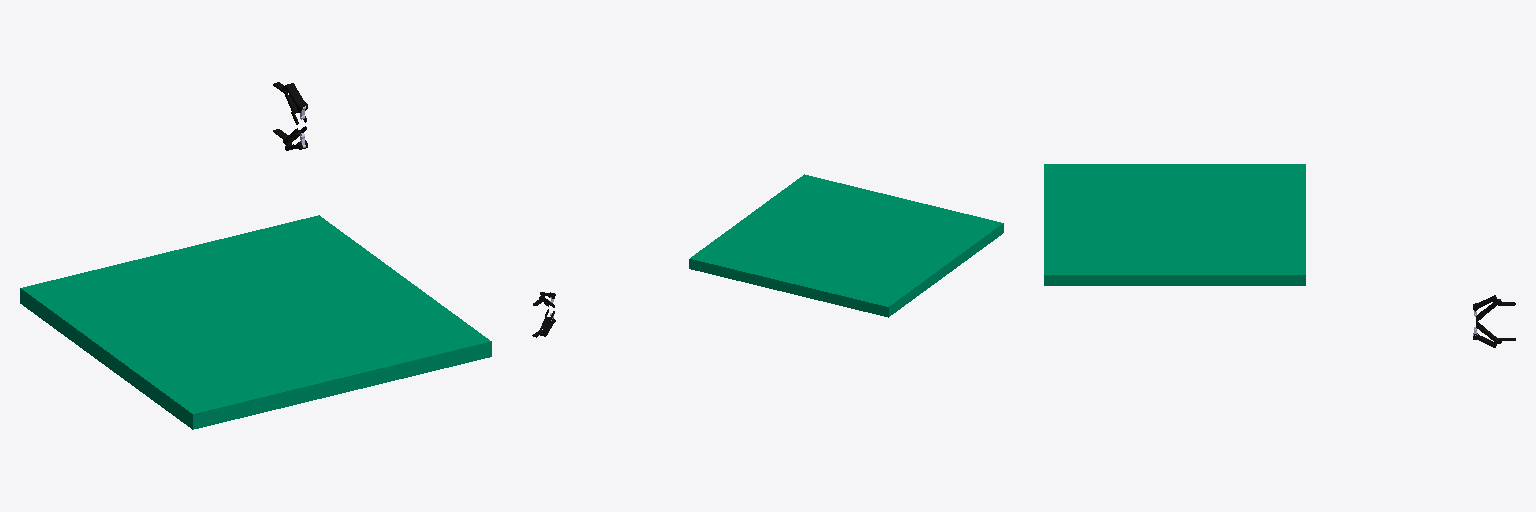
The robot description file, URDF, robot "ur5_robotiq_140":
<?xml version="1.0" ?>
<!-- =================================================================================== -->
<!-- |    This document was autogenerated by xacro from sisbot.xacro                   | -->
<!-- |    EDITING THIS FILE BY HAND IS NOT RECOMMENDED                                 | -->
<!-- =================================================================================== -->
<robot name="ur5_robotiq_140" xmlns:xacro="http://ros.org/wiki/xacro">
  <!--################################################
  ########              arm                    #######
  ####################################################-->

  <link name="base_link">
    <visual>
      <geometry>
        <mesh filename="../meshes/ur5/visual/base.obj"/>
      </geometry>
      <material name="LightGrey">
        <color rgba="0.7 0.7 0.7 1.0"/>
      </material>
    </visual>
    <collision>
      <geometry>
        <mesh filename="../meshes/ur5/collision/base.stl"/>
      </geometry>
    </collision>
    <inertial>
      <mass value="4.0"/>
      <origin rpy="0 0 0" xyz="0.0 0.0 0.0"/>
      <inertia ixx="0.00443333156" ixy="0.0" ixz="0.0" iyy="0.00443333156" iyz="0.0" izz="0.0072"/>
    </inertial>
  </link>

  <joint name="shoulder_pan_joint" type="revolute">
    <parent link="base_link"/>
    <child link="shoulder_link"/>
    <origin rpy="0.0 0.0 0.0" xyz="0.0 0.0 0.089159"/>
    <axis xyz="0 0 1"/>
    <limit effort="150.0" lower="-3.14159265359" upper="3.14159265359" velocity="3.15"/>
    <dynamics damping="0.0" friction="0.0"/>
  </joint>
  <link name="shoulder_link">
    <visual>
      <geometry>
        <mesh filename="../meshes/ur5/visual/shoulder.obj"/>
      </geometry>
      <material name="DarkGray">
        <color rgba="0.5 0.5 0.5 1.0"/>
      </material>
    </visual>
    <collision>
      <geometry>
        <mesh filename="../meshes/ur5/collision/shoulder.stl"/>
      </geometry>
    </collision>
    <inertial>
      <mass value="3.7"/>
      <origin rpy="0 0 0" xyz="0.0 0.0 0.0"/>
      <inertia ixx="0.010267495893" ixy="0.0" ixz="0.0" iyy="0.010267495893" iyz="0.0" izz="0.00666"/>
    </inertial>
  </link>
  <joint name="shoulder_lift_joint" type="revolute">
    <parent link="shoulder_link"/>
    <child link="upper_arm_link"/>
    <origin rpy="0.0 1.57079632679 0.0" xyz="0.0 0.13585 0.0"/>
    <axis xyz="0 1 0"/>
    <limit effort="150.0" lower="-3.14159265359" upper="3.14159265359" velocity="3.15"/>
    <dynamics damping="0.0" friction="0.0"/>
  </joint>
  <link name="upper_arm_link">
    <visual>
      <geometry>
        <mesh filename="../meshes/ur5/visual/upperarm.obj"/>
      </geometry>
      <material name="LightGrey">
        <color rgba="0.7 0.7 0.7 1.0"/>
      </material>
    </visual>
    <collision>
      <geometry>
        <mesh filename="../meshes/ur5/collision/upperarm.stl"/>
      </geometry>
    </collision>
    <inertial>
      <mass value="8.393"/>
      <origin rpy="0 0 0" xyz="0.0 0.0 0.28"/>
      <inertia ixx="0.22689067591" ixy="0.0" ixz="0.0" iyy="0.22689067591" iyz="0.0" izz="0.0151074"/>
    </inertial>
  </link>
  <joint name="elbow_joint" type="revolute">
    <parent link="upper_arm_link"/>
    <child link="forearm_link"/>
    <origin rpy="0.0 0.0 0.0" xyz="0.0 -0.1197 0.425"/>
    <axis xyz="0 1 0"/>
    <limit effort="150.0" lower="-3.14159265359" upper="3.14159265359" velocity="3.15"/>
    <dynamics damping="0.0" friction="0.0"/>
  </joint>
  <link name="forearm_link">
    <visual>
      <geometry>
        <mesh filename="../meshes/ur5/visual/forearm.obj"/>
      </geometry>
      <material name="LightGrey">
        <color rgba="0.7 0.7 0.7 1.0"/>
      </material>
    </visual>
    <collision>
      <geometry>
        <mesh filename="../meshes/ur5/collision/forearm.stl"/>
      </geometry>
    </collision>
    <inertial>
      <mass value="2.275"/>
      <origin rpy="0 0 0" xyz="0.0 0.0 0.25"/>
      <inertia ixx="0.049443313556" ixy="0.0" ixz="0.0" iyy="0.049443313556" iyz="0.0" izz="0.004095"/>
    </inertial>
  </link>
  <joint name="wrist_1_joint" type="revolute">
    <parent link="forearm_link"/>
    <child link="wrist_1_link"/>
    <origin rpy="0.0 1.57079632679 0.0" xyz="0.0 0.0 0.39225"/>
    <axis xyz="0 1 0"/>
    <limit effort="28.0" lower="-3.14159265359" upper="3.14159265359" velocity="3.2"/>
    <dynamics damping="0.0" friction="0.0"/>
  </joint>
  <link name="wrist_1_link">
    <visual>
      <geometry>
        <mesh filename="../meshes/ur5/visual/wrist1.obj"/>
      </geometry>
      <material name="DarkGray">
        <color rgba="0.5 0.5 0.5 1.0"/>
      </material>
    </visual>
    <collision>
      <geometry>
        <mesh filename="../meshes/ur5/collision/wrist1.stl"/>
      </geometry>
    </collision>
    <inertial>
      <mass value="1.219"/>
      <origin rpy="0 0 0" xyz="0.0 0.0 0.0"/>
      <inertia ixx="0.111172755531" ixy="0.0" ixz="0.0" iyy="0.111172755531" iyz="0.0" izz="0.21942"/>
    </inertial>
  </link>
  <joint name="wrist_2_joint" type="revolute">
    <parent link="wrist_1_link"/>
    <child link="wrist_2_link"/>
    <origin rpy="0.0 0.0 0.0" xyz="0.0 0.093 0.0"/>
    <axis xyz="0 0 1"/>
    <limit effort="28.0" lower="-3.14159265359" upper="3.14159265359" velocity="3.2"/>
    <dynamics damping="0.0" friction="0.0"/>
  </joint>
  <link name="wrist_2_link">
    <visual>
      <geometry>
        <mesh filename="../meshes/ur5/visual/wrist2.obj"/>
      </geometry>
      <material name="DarkGray">
        <color rgba="0.5 0.5 0.5 1.0"/>
      </material>
    </visual>
    <collision>
      <geometry>
        <mesh filename="../meshes/ur5/collision/wrist2.stl"/>
      </geometry>
    </collision>
    <inertial>
      <mass value="1.219"/>
      <origin rpy="0 0 0" xyz="0.0 0.0 0.0"/>
      <inertia ixx="0.111172755531" ixy="0.0" ixz="0.0" iyy="0.111172755531" iyz="0.0" izz="0.21942"/>
    </inertial>
  </link>
  <joint name="wrist_3_joint" type="revolute">
    <parent link="wrist_2_link"/>
    <child link="wrist_3_link"/>
    <origin rpy="0.0 0.0 0.0" xyz="0.0 0.0 0.09465"/>
    <axis xyz="0 1 0"/>
    <limit effort="28.0" lower="-3.14159265359" upper="3.14159265359" velocity="3.2"/>
    <dynamics damping="0.0" friction="0.0"/>
  </joint>
  <link name="wrist_3_link">
    <visual>
      <geometry>
        <mesh filename="../meshes/ur5/visual/wrist3.obj"/>
      </geometry>
      <material name="LightGrey">
        <color rgba="0.7 0.7 0.7 1.0"/>
      </material>
    </visual>
    <collision>
      <geometry>
        <mesh filename="../meshes/ur5/collision/wrist3.stl"/>
      </geometry>
    </collision>
    <inertial>
      <mass value="0.1879"/>
      <origin rpy="0 0 0" xyz="0.0 0.0 0.0"/>
      <inertia ixx="0.0171364731454" ixy="0.0" ixz="0.0" iyy="0.0171364731454" iyz="0.0" izz="0.033822"/>
    </inertial>
  </link>
  <joint name="ee_fixed_joint" type="fixed">
    <parent link="wrist_3_link"/>
    <child link="ee_link"/>
    <origin rpy="0.0 0.0 1.57079632679" xyz="0.0 0.0823 0.0"/>
  </joint>
  <link name="ee_link">
    <collision>
      <geometry>
        <box size="0.01 0.01 0.01"/>
      </geometry>
      <origin rpy="0 0 0" xyz="-0.01 0 0"/>
    </collision>
  </link>

  <!--################################################
  ########              gripper                  #####
  ####################################################-->

 <link name="robotiq_140_robotiq_arg2f_base_link">
    <inertial>
      <origin rpy="0 0 0" xyz="-0.00013 0.00011 0.03284"/>
      <mass value="0.52954"/>
      <inertia ixx="573495E-9" ixy="-554E-9" ixz="2628E-9" iyy="681780E-9" iyz="607E-9" izz="483281E-9"/>
    </inertial>
    <visual>
      <origin rpy="0 0 0" xyz="0 0 0"/>
      <geometry>
        <mesh filename="package://robotiq_140_gripper_description/meshes/GRIPPER_base_axis.dae" scale="0.001 0.001 0.001"/>
      </geometry>
      <material name="Gazebo/Black">
        <color rgba="0.1 0.1 0.1 1"/>
      </material>
    </visual>
    <collision>
      <origin rpy="0 0 0" xyz="0 0 0"/>
      <geometry>
        <mesh filename="package://robotiq_140_gripper_description/meshes/GRIPPER_base_axis.dae" scale="0.001 0.001 0.001"/>
      </geometry>
    </collision>
  </link>
  <gazebo reference="robotiq_140_robotiq_arg2f_base_link">
    <material>Gazebo/Black</material>
    <selfCollide>True</selfCollide>
  </gazebo>
  <!-- robotiq_85_left_knuckle_link -->
  <link name="robotiq_140_left_outer_knuckle">
    <inertial>
      <origin rpy="0 0 0" xyz="0.01616 0 -0.00133"/>
      <mass value="0.0131"/>
      <inertia ixx="325.5E-9" ixy="0" ixz="197.94E-9" iyy="2306.36E-9" iyz="0" izz="2176E-9"/>
    </inertial>
    <visual>
      <origin rpy="0 0 0" xyz="0 0 0"/>
      <geometry>
        <mesh filename="package://robotiq_140_gripper_description/meshes/robotiq_140_left_outer_knuckle.dae" scale="0.001 0.001 0.001"/>
      </geometry>
      <material name="">
        <color rgba="0.792156862745098 0.819607843137255 0.933333333333333 1"/>
      </material>
    </visual>
    <collision>
      <origin rpy="0 0 0" xyz="0 0 0"/>
      <geometry>
        <mesh filename="package://robotiq_140_gripper_description/meshes/robotiq_140_left_outer_knuckle.dae" scale="0.001 0.001 0.001"/>
      </geometry>
    </collision>
  </link>
  <gazebo reference="robotiq_140_left_outer_knuckle">
    <material>Gazebo/Grey</material>
    <selfCollide>True</selfCollide>
  </gazebo>
  <!-- robotiq_85_right_knuckle_link -->
  <link name="robotiq_140_right_outer_knuckle">
    <inertial>
      <origin rpy="0 0 0" xyz="-0.01616 0 -0.00133"/>
      <mass value="0.0131"/>
      <inertia ixx="325.5E-9" ixy="0" ixz="-197.94E-9" iyy="2306.36E-9" iyz="0" izz="2176E-9"/>
    </inertial>
    <visual>
      <origin rpy="0 0 0" xyz="0 0 0"/>
      <geometry>
        <mesh filename="package://robotiq_140_gripper_description/meshes/robotiq_140_right_outer_knuckle.dae" scale="0.001 0.001 0.001"/>
      </geometry>
      <material name="">
        <color rgba="0.792156862745098 0.819607843137255 0.933333333333333 1"/>
      </material>
    </visual>
    <collision>
      <origin rpy="0 0 0" xyz="0 0 0"/>
      <geometry>
        <mesh filename="package://robotiq_140_gripper_description/meshes/robotiq_140_right_outer_knuckle.dae" scale="0.001 0.001 0.001"/>
      </geometry>
    </collision>
  </link>
  <gazebo reference="robotiq_140_right_outer_knuckle">
    <material>Gazebo/Grey</material>
    <selfCollide>True</selfCollide>
  </gazebo>
  <!-- robotiq_85_left_inner_knuckle_link -->
  <link name="robotiq_140_left_inner_knuckle">
    <inertial>
      <origin rpy="0 0 0" xyz="0.03332 0 0.0379"/>
      <mass value="0.04476"/>
      <inertia ixx="28054E-9" ixy="0" ixz="-19174E-9" iyy="39758E-9" iyz="0" izz="23453E-9"/>
    </inertial>
    <visual>
      <origin rpy="0 0 0" xyz="0 0 0"/>
      <geometry>
        <mesh filename="package://robotiq_140_gripper_description/meshes/robotiq_140_left_inner_knuckle.dae" scale="0.001 0.001 0.001"/>
      </geometry>
      <material name="Gazebo/Black">
        <color rgba="0.1 0.1 0.1 1"/>
      </material>
    </visual>
    <collision>
      <origin rpy="0 0 0" xyz="0 0 0"/>
      <geometry>
        <mesh filename="package://robotiq_140_gripper_description/meshes/robotiq_140_left_inner_knuckle.dae" scale="0.001 0.001 0.001"/>
      </geometry>
    </collision>
  </link>
  <gazebo reference="robotiq_140_left_inner_knuckle">
    <material>Gazebo/Black</material>
    <selfCollide>False</selfCollide>
  </gazebo>
  <!-- robotiq_85_right_inner_knuckle_link -->
  <link name="robotiq_140_right_inner_knuckle">
    <inertial>
      <origin rpy="0 0 0" xyz="-0.03332 0 0.0379"/>
      <mass value="0.04476"/>
      <inertia ixx="28054E-9" ixy="0" ixz="19174E-9" iyy="39758E-9" iyz="0" izz="23453E-9"/>
    </inertial>
    <visual>
      <origin rpy="0 0 0" xyz="0 0 0"/>
      <geometry>
        <mesh filename="package://robotiq_140_gripper_description/meshes/robotiq_140_right_inner_knuckle.dae" scale="0.001 0.001 0.001"/>
      </geometry>
      <material name="Gazebo/Black">
        <color rgba="0.1 0.1 0.1 1"/>
      </material>
    </visual>
    <collision>
      <origin rpy="0 0 0" xyz="0 0 0"/>
      <geometry>
        <mesh filename="package://robotiq_140_gripper_description/meshes/robotiq_140_right_inner_knuckle.dae" scale="0.001 0.001 0.001"/>
      </geometry>
    </collision>
  </link>
  <gazebo reference="robotiq_140_right_inner_knuckle">
    <material>Gazebo/Black</material>
    <selfCollide>False</selfCollide>
  </gazebo>
  <!-- robotiq_85_left_finger_link -->
  <link name="robotiq_140_left_inner_finger">
    <inertial>
      <origin rpy="0 0 0" xyz="-0.01563 0 0.02522"/>
      <mass value="0.045"/>
      <inertia ixx="26663E-9" ixy="0" ixz="5579E-9" iyy="28009E-9" iyz="0" izz="4368E-9"/>
    </inertial>
    <visual>
      <origin rpy="0 0 0" xyz="0 0 0"/>
      <geometry>
        <mesh filename="package://robotiq_140_gripper_description/meshes/robotiq_140_left_inner_finger.dae" scale="0.001 0.001 0.001"/>
      </geometry>
      <material name="Gazebo/Black">
        <color rgba="0.1 0.1 0.1 1"/>
      </material>
    </visual>
    <collision>
      <origin rpy="0 0 0" xyz="0 0 0"/>
      <geometry>
        <mesh filename="package://robotiq_140_gripper_description/meshes/robotiq_140_left_inner_finger.dae" scale="0.001 0.001 0.001"/>
      </geometry>
    </collision>
  </link>
  <gazebo reference="robotiq_140_left_inner_finger">
    <material>Gazebo/Black</material>
    <selfCollide>False</selfCollide>
  </gazebo>
  <!-- robotiq_85_right_finger_link -->
  <link name="robotiq_140_right_inner_finger">
    <inertial>
      <origin rpy="0 0 0" xyz="0.01563 0 0.02522"/>
      <mass value="0.045"/>
      <inertia ixx="26663E-9" ixy="0" ixz="-5579E-9" iyy="28009E-9" iyz="0" izz="4368E-9"/>
    </inertial>
    <visual>
      <origin rpy="0 0 0" xyz="0 0 0"/>
      <geometry>
        <mesh filename="package://robotiq_140_gripper_description/meshes/robotiq_140_right_inner_finger.dae" scale="0.001 0.001 0.001"/>
      </geometry>
      <material name="Gazebo/Black">
        <color rgba="0.1 0.1 0.1 1"/>
      </material>
    </visual>
    <collision>
      <origin rpy="0 0 0" xyz="0 0 0"/>
      <geometry>
        <mesh filename="package://robotiq_140_gripper_description/meshes/robotiq_140_right_inner_finger.dae" scale="0.001 0.001 0.001"/>
      </geometry>
    </collision>
  </link>
  <gazebo reference="robotiq_140_right_inner_finger">
    <material>Gazebo/Black</material>
    <selfCollide>False</selfCollide>
  </gazebo>
  <!-- robot -->
  <link name="robotiq_140_left_outer_finger">
    <inertial>
      <origin rpy="0 0 0" xyz="0.01482 0 0.03451"/>
      <mass value="0.07637"/>
      <inertia ixx="45513E-9" ixy="0" ixz="-20691E-9" iyy="52570E-9" iyz="0" izz="17804E-9"/>
    </inertial>
    <visual>
      <origin rpy="0 0 0" xyz="0 0 0"/>
      <geometry>
        <mesh filename="package://robotiq_140_gripper_description/meshes/robotiq_140_left_outer_finger.dae" scale="0.001 0.001 0.001"/>
      </geometry>
      <material name="Gazebo/Black">
        <color rgba="0.1 0.1 0.1 1"/>
      </material>
    </visual>
    <collision>
      <origin rpy="0 0 0" xyz="0 0 0"/>
      <geometry>
        <mesh filename="package://robotiq_140_gripper_description/meshes/robotiq_140_left_outer_finger.dae" scale="0.001 0.001 0.001"/>
      </geometry>
    </collision>
  </link>
  <gazebo reference="robotiq_140_left_outer_finger">
    <material>Gazebo/Black</material>
    <selfCollide>True</selfCollide>
  </gazebo>
  <!-- robot -->
  <link name="robotiq_140_right_outer_finger">
    <inertial>
      <origin rpy="0 0 0" xyz="-0.01482 0 0.03451"/>
      <mass value="0.07637"/>
      <inertia ixx="45513E-9" ixy="0" ixz="20691E-9" iyy="52570E-9" iyz="0" izz="17804E-9"/>
    </inertial>
    <visual>
      <origin rpy="0 0 0" xyz="0 0 0"/>
      <geometry>
        <mesh filename="package://robotiq_140_gripper_description/meshes/robotiq_140_right_outer_finger.dae" scale="0.001 0.001 0.001"/>
      </geometry>
      <material name="Gazebo/Black">
        <color rgba="0.1 0.1 0.1 1"/>
      </material>
    </visual>
    <collision>
      <origin rpy="0 0 0" xyz="0 0 0"/>
      <geometry>
        <mesh filename="package://robotiq_140_gripper_description/meshes/robotiq_140_right_outer_finger.dae" scale="0.001 0.001 0.001"/>
      </geometry>
    </collision>
  </link>
  <gazebo reference="robotiq_140_right_outer_finger">
    <material>Gazebo/Black</material>
    <selfCollide>True</selfCollide>
  </gazebo>
  <!-- robot -->
  <joint name="robotiq_arg2f_base_to_robotiq_140_left_outer_knuckle" type="revolute">
    <origin rpy="0 0 0" xyz="0.0306 0 0.05466"/>
    <parent link="robotiq_140_robotiq_arg2f_base_link"/>
    <child link="robotiq_140_left_outer_knuckle"/>
    <axis xyz="0 -1 0"/>
    <limit effort="18.65" lower="0" upper="0.78574722925" velocity="2.0"/>
    <mimic joint="robotiq_140_joint_finger" multiplier="1" offset="0"/>
  </joint>
  <!-- robot -->
  <joint name="robotiq_140_joint_finger" type="revolute">
    <origin rpy="0 0 0" xyz="-0.0306 0 0.05466"/>
    <parent link="robotiq_140_robotiq_arg2f_base_link"/>
    <child link="robotiq_140_right_outer_knuckle"/>
    <axis xyz="0 1 0"/>
    <limit effort="18.65" lower="0" upper="0.78574722925" velocity="3.54"/>
  </joint>
  <!-- robot -->
  <joint name="robotiq_arg2f_base_to_robotiq_140_left_inner_knuckle" type="revolute">
    <origin rpy="0 0 0" xyz="0.0127 0 0.06118"/>
    <parent link="robotiq_140_robotiq_arg2f_base_link"/>
    <child link="robotiq_140_left_inner_knuckle"/>
    <axis xyz="0 -1 0"/>
    <limit effort="18.65" lower="0" upper="0.78574722925" velocity="3.54"/>
    <mimic joint="robotiq_140_joint_finger" multiplier="1" offset="0"/>
  </joint>
  <!-- robot -->
  <joint name="robotiq_arg2f_base_to_robotiq_140_right_inner_knuckle" type="revolute">
    <origin rpy="0 0 0" xyz="-0.0127 0 0.06118"/>
    <parent link="robotiq_140_robotiq_arg2f_base_link"/>
    <child link="robotiq_140_right_inner_knuckle"/>
    <axis xyz="0 1 0"/>
    <limit effort="18.65" lower="0" upper="0.78574722925" velocity="3.54"/>
    <mimic joint="robotiq_140_joint_finger" multiplier="1" offset="0"/>
  </joint>
  <!-- robot -->
  <joint name="robotiq_140_left_outer_knuckle_to_finger" type="fixed">
    <origin rpy="0 0 0" xyz="0.03142 0 -0.00453"/>
    <parent link="robotiq_140_left_outer_knuckle"/>
    <child link="robotiq_140_left_outer_finger"/>
  </joint>
  <!-- robot -->
  <joint name="robotiq_140_right_outer_knuckle_to_finger" type="fixed">
    <origin rpy="0 0 0" xyz="-0.03142 0 -0.00453"/>
    <parent link="robotiq_140_right_outer_knuckle"/>
    <child link="robotiq_140_right_outer_finger"/>
  </joint>
  <!-- robot -->
  <joint name="robotiq_140_left_outer_finger_to_inner" type="revolute">
    <origin rpy="0 0 0" xyz="0.03543 0 0.0789"/>
    <parent link="robotiq_140_left_outer_finger"/>
    <child link="robotiq_140_left_inner_finger"/>
    <axis xyz="0 1 0"/>
    <limit effort="18.65" lower="0" upper="0.78574722925" velocity="3.54"/>
    <mimic joint="robotiq_140_joint_finger" multiplier="1" offset="0"/>
  </joint>
  <!-- robot -->
  <joint name="robotiq_140_right_outer_finger_to_inner" type="revolute">
    <origin rpy="0 0 0" xyz="-0.03543 0 0.0789"/>
    <parent link="robotiq_140_right_outer_finger"/>
    <child link="robotiq_140_right_inner_finger"/>
    <axis xyz="0 -1 0"/>
    <limit effort="18.65" lower="0" upper="0.78574722925" velocity="3.54"/>
    <mimic joint="robotiq_140_joint_finger" multiplier="1" offset="0"/>
  </joint>


  <!--################################################
  ######              ur5_stand                  #####
  ####################################################-->
  <link name="ur5_stand">
<inertial>
    <mass value="1.0" />
    <origin xyz="0 0 0" />
      <inertia  ixx="0.0003375" ixy="0.0"  ixz="0.0"  iyy="0.0003375"  iyz="0.0"  izz="0.0003375" />
</inertial>
      <collision name="collision">
        <geometry>
          <mesh filename="package://objects/mesh/UR_BANCHETTO1.dae" />
        </geometry>
      </collision>
      <visual name="visual">
        <geometry>
          <mesh filename="package://objects/mesh/UR_BANCHETTO1.dae" />
        </geometry>
      <material name="white">
        <color rgba="1 1 1 1.0"/>
      </material>
      </visual>
    </link>

  <!--################################################
  ######              table                    #####
  ####################################################-->

  <link name="table">
   <inertial>
      <origin xyz="0.23 0 0.755" rpy="0 0 0" />
      <mass value="1"/>
      <inertia
        ixx="0.07" ixy="0.0" ixz="0.0"
        iyy="0.40" iyz="0.0"
        izz="0.33"/>
    </inertial>

    <visual>
      <geometry>
        <box size="1 1 0.05"/>
      </geometry>
    </visual>
    <collision>
      <geometry>
        <box size="1 1 0.05"/>
      </geometry>
    </collision>
  </link>


  <!--################################################
  ######              block                     #####
  ####################################################-->

    <!--<link name="block">

    <inertial>
      <origin xyz="0 0 0" />
      <mass value="0.01" />
      <inertia  ixx="0.00003375" ixy="0.0"  ixz="0.0"  iyy="0.00003375"  iyz="0.0"  izz="0.00003375" />
    </inertial>

    <visual>
      <origin xyz="0 0 0"/>
      <geometry>
        <box size="0.085 0.085 0.045" />
      </geometry>
      <material name="red">
        <color rgba="0.4 0.4 1.0 1.0"/>
      </material>
    </visual>

    <collision>
      <origin xyz="0 0 0"/>
      <geometry>
        <box size="0.085 0.085 0.045" />
      </geometry>
    </collision>

  </link>-->


  <!--################################################
  ########          connect model                #####
  ####################################################-->

  <link name="world"/>

  <!-- connect ur5_stand to world -->
  <joint name="world_ur5_stand_joint" type="fixed">
    <parent link="world"/>
    <child link="ur5_stand"/>
    <origin rpy="0.0 0.0 0" xyz="-0.7 -0.36 0.0"/>
  </joint>

  <!-- connect table to world -->
  <joint name="world_table_joint" type="fixed">
    <parent link="world"/>
    <child link="table"/>
    <origin rpy="0.0 0.0 0" xyz="0.0 -0.9 0.8"/>
  </joint>

  <!-- connect block to world -->
    <!--<joint name="world_block_joint" type="floating">
    <parent link="world"/>
    <child link="block"/>
    <origin rpy="0.0 0.0 0" xyz="0.1 -0.6 0.85"/>
  </joint>-->

  <!-- connect arm to world -->
  <joint name="world_arm_joint" type="fixed">
    <parent link="world"/>
    <child link="base_link"/>
    <origin rpy="0.0 0.0 0" xyz="0 0 0.78"/>
  </joint>
  <!-- connect gripper to arm -->
  <joint name="arm_gripper_joint" type="fixed">
    <parent link="ee_link"/>
    <child link="robotiq_140_robotiq_arg2f_base_link"/>
    <origin rpy="-1.57 1.57 -1.57" xyz="0.0 0.0 0.0"/>
  </joint>




</robot>

--- What the picture shows (computed from the rendered views, not written in the file) ---
Views: 3 orthographic renders of the robot side by side, from view 1: azimuth 30°, elevation 25°; view 2: azimuth 150°, elevation 25°; view 3: azimuth 270°, elevation 25°.
Model ur5_robotiq_140 with 20 links and 19 joints (12 revolute, 7 fixed), rooted at world, posed every joint at zero.
Visible links, largest first — view 1: table; view 2: table; view 3: table.
Boxes of the visible links, bbox=[...] form: table: bbox=[20, 215, 491, 429]; table: bbox=[689, 174, 1003, 317]; table: bbox=[1044, 164, 1305, 285].
Size in the robot's own frame: 1.33 by 1.8 by 0.2113 metres.
8 mesh visuals loaded from 17 distinct referenced files (8 Collada DAE); not drawn: 9 (reference not matched to a file when rendering).